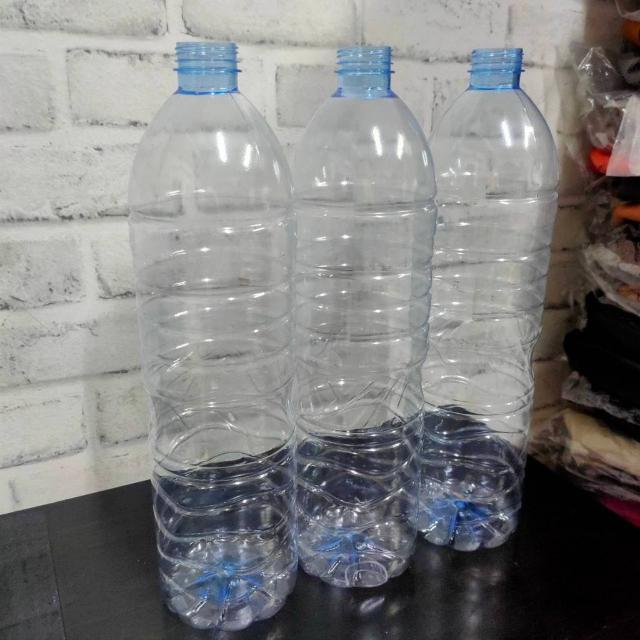PET Bottle: (119, 33, 306, 640), (421, 19, 565, 590), (287, 45, 428, 615)
